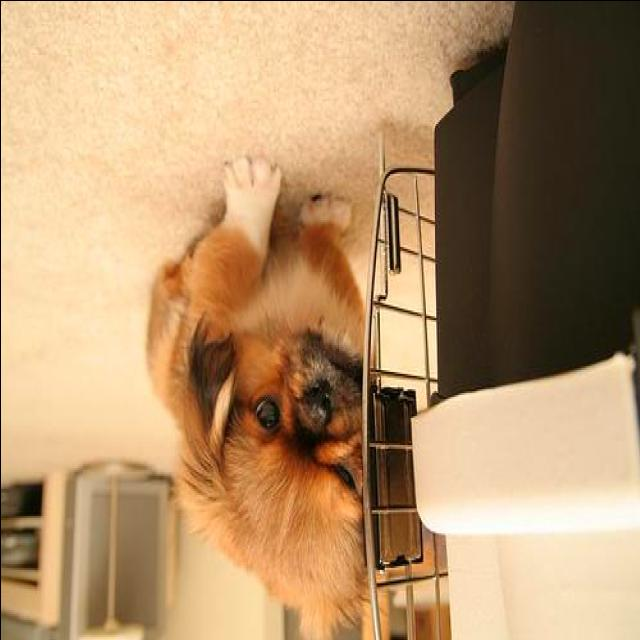pekinese: (144, 152, 376, 636)
